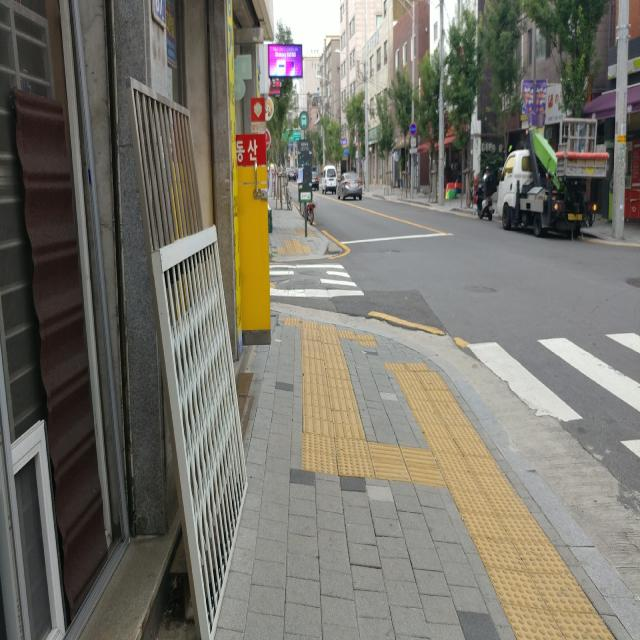횡단보도: (459, 331, 640, 451), (269, 264, 364, 298)
